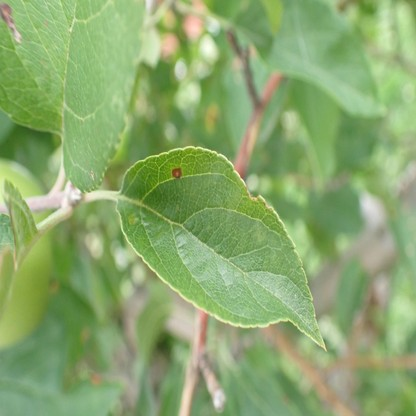frogeye_leaf_spot: (0, 3, 21, 43), (172, 167, 182, 177)
scab: (253, 220, 266, 242)
